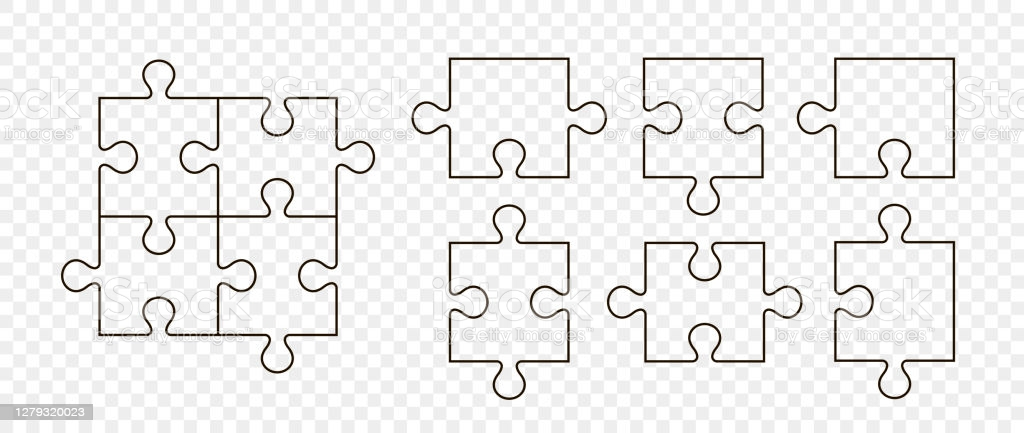puzzle piece: (414, 49, 611, 190)
